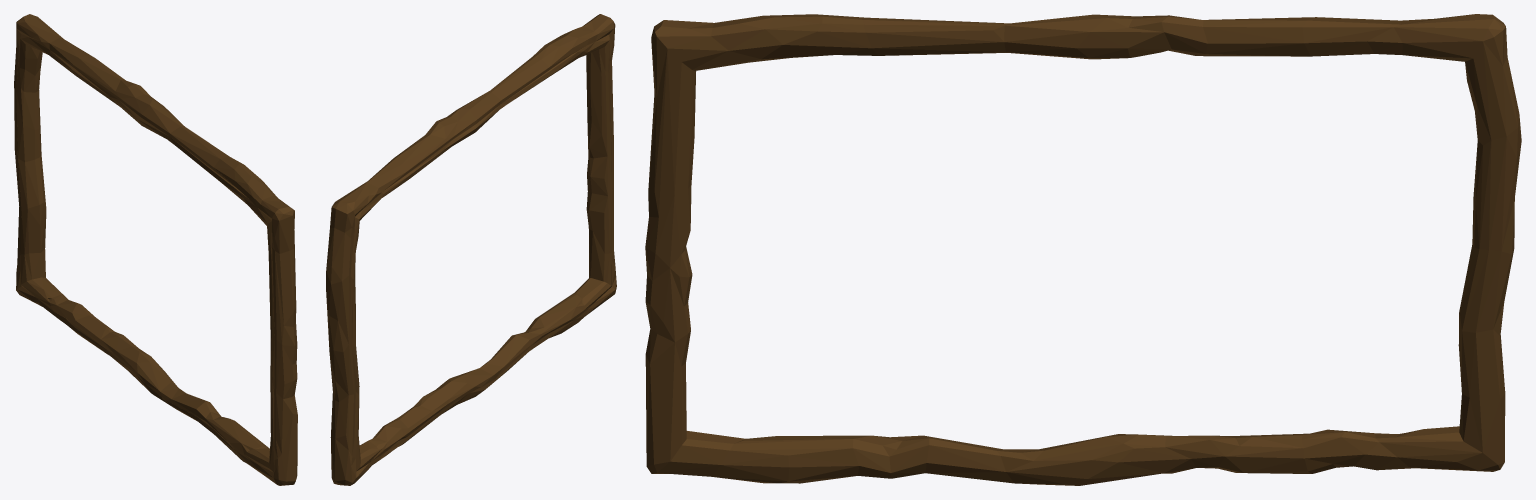
File: frame.fbx
The picture shows the model from 3 angles, left to right: view 1: azimuth 30°, elevation 25°; view 2: azimuth 150°, elevation 25°; view 3: azimuth 270°, elevation 25°; orthographic projection. The views are drawn at different scales.
Parts seen in each view (by area): view 1: frame; view 2: frame; view 3: frame.
Part boxes in pixels (x1,y1,x2,y2): frame: (14, 14, 297, 485); frame: (326, 14, 616, 485); frame: (645, 14, 1521, 485).
Bounding box in the file's own units: 0.1104 × 1.21 × 2.05.
